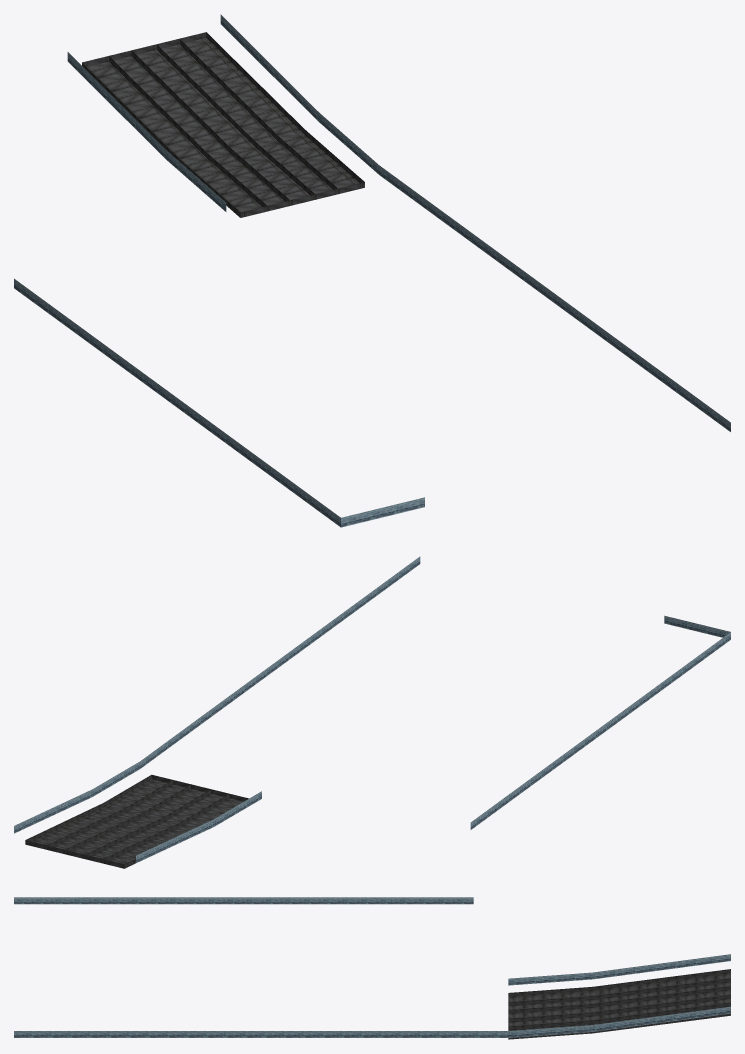
Rendered from pier02tr_law2.obj.
3 views of the same model, one above another, from view 1: azimuth 30°, elevation 25°; view 2: azimuth 150°, elevation 25°; view 3: azimuth 270°, elevation 25° (orthographic). The views are drawn at different scales.
Visible parts, largest first — view 1: Pier02Tr_LAw2; view 2: Pier02Tr_LAw2; view 3: Pier02Tr_LAw2.
Boxes of the visible parts, <box> form: Pier02Tr_LAw2: <box>14,14,730,527</box>; Pier02Tr_LAw2: <box>14,556,730,868</box>; Pier02Tr_LAw2: <box>14,897,730,1039</box>.
Size of the model in its own units: 49.61 by 6.56 by 112.
